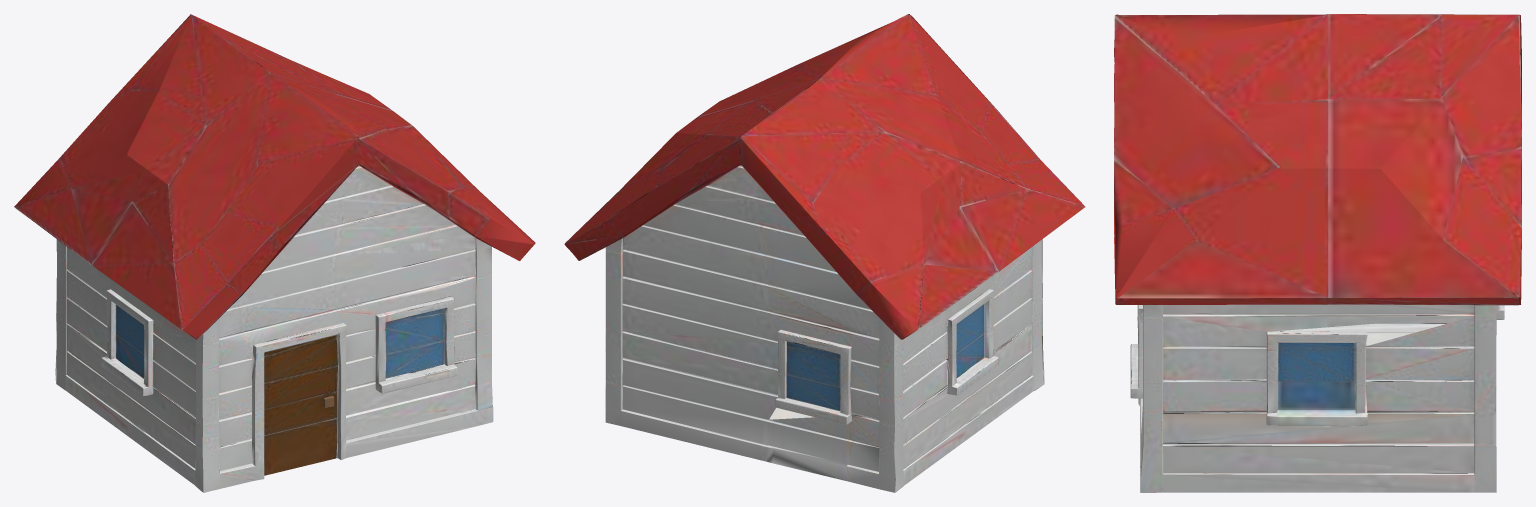
File: 01-small-house-red-roof.glb
The picture shows the model from 3 angles, left to right: view 1: azimuth 30°, elevation 25°; view 2: azimuth 150°, elevation 25°; view 3: azimuth 270°, elevation 25°; orthographic projection. The views are drawn at different scales.
Visible parts, largest first — view 1: geometry_0; view 2: geometry_0; view 3: geometry_0.
Boxes of the visible parts, left/top/right/bottom form: geometry_0: left=14, top=14, right=535, bottom=492; geometry_0: left=564, top=14, right=1085, bottom=492; geometry_0: left=1114, top=14, right=1521, bottom=492.
Bounding box in the file's own units: 0.9473 × 0.8345 × 0.7832.
Materials: 1 (1 with a texture image).
